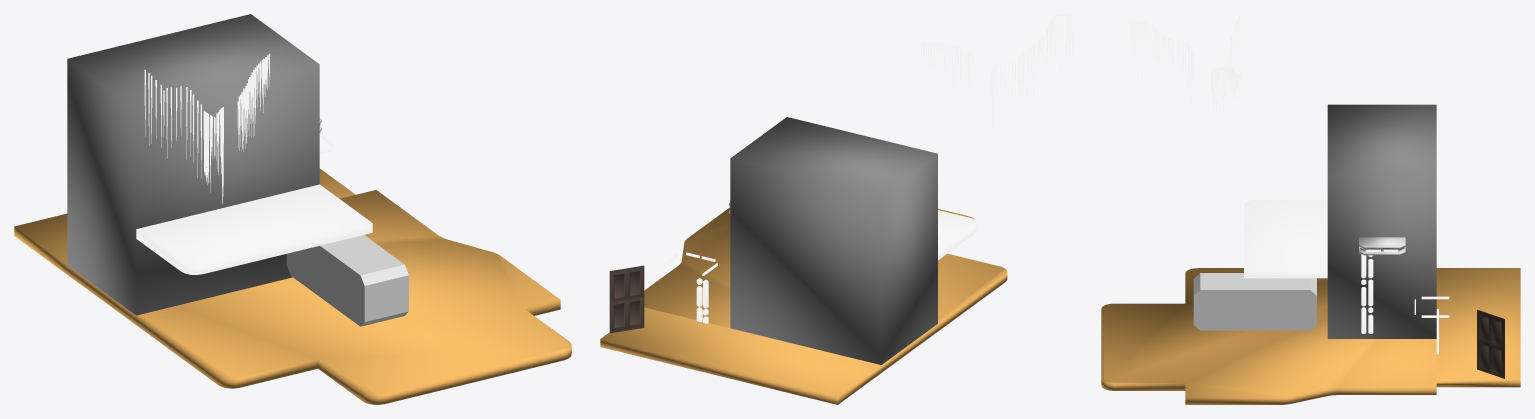
The model's file is light3.gltf.
3 renders of one model, left to right at view 1: azimuth 30°, elevation 25°; view 2: azimuth 150°, elevation 25°; view 3: azimuth 270°, elevation 25°, orthographic. The views are drawn at different scales.
Visible parts, largest first — view 1: Plane.008, Plane.002, Plane.007, Plane.033, Vert.006; view 2: Plane.008, Plane.002, Vert.006, Plane.027, Plane.007, Plane.020; view 3: Plane.002, Plane.008, Plane.033, Plane.007, Vert.006, Plane.027, Plane.001, Cube.002.
Part boxes in pixels (bbox=[...]): Plane.008: bbox=[67, 14, 319, 315]; Plane.002: bbox=[14, 168, 571, 404]; Plane.007: bbox=[136, 184, 372, 274]; Plane.033: bbox=[286, 235, 408, 326]; Vert.006: bbox=[144, 53, 270, 204]; Plane.008: bbox=[730, 117, 937, 364]; Plane.002: bbox=[600, 207, 1007, 404]; Vert.006: bbox=[917, 14, 1072, 128]; Plane.027: bbox=[609, 265, 644, 333]; Plane.007: bbox=[938, 210, 976, 259]; Plane.020: bbox=[696, 278, 708, 323]; Plane.002: bbox=[1101, 268, 1520, 404]; Plane.008: bbox=[1327, 104, 1436, 338]; Plane.033: bbox=[1193, 273, 1316, 330]; Plane.007: bbox=[1244, 199, 1327, 278]; Vert.006: bbox=[1129, 14, 1241, 122]; Plane.027: bbox=[1477, 309, 1504, 378]; Plane.001: bbox=[1361, 254, 1373, 333]; Cube.002: bbox=[1359, 237, 1405, 255].
Size of what is drawn, in the model's own units: 8.32 by 7.3 by 10.
